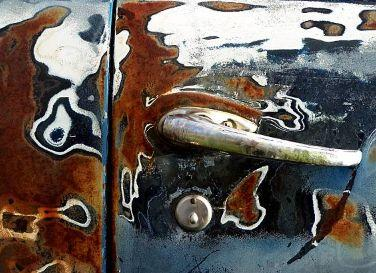automobile: (2, 0, 376, 273)
